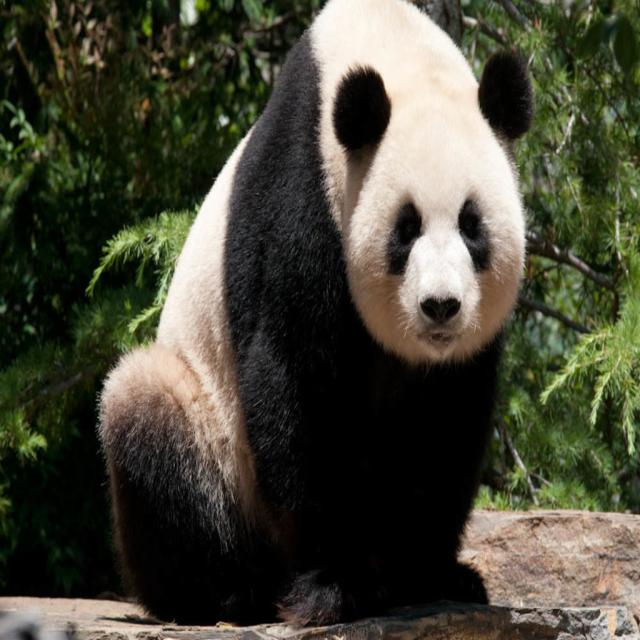panda: (96, 0, 530, 633)
